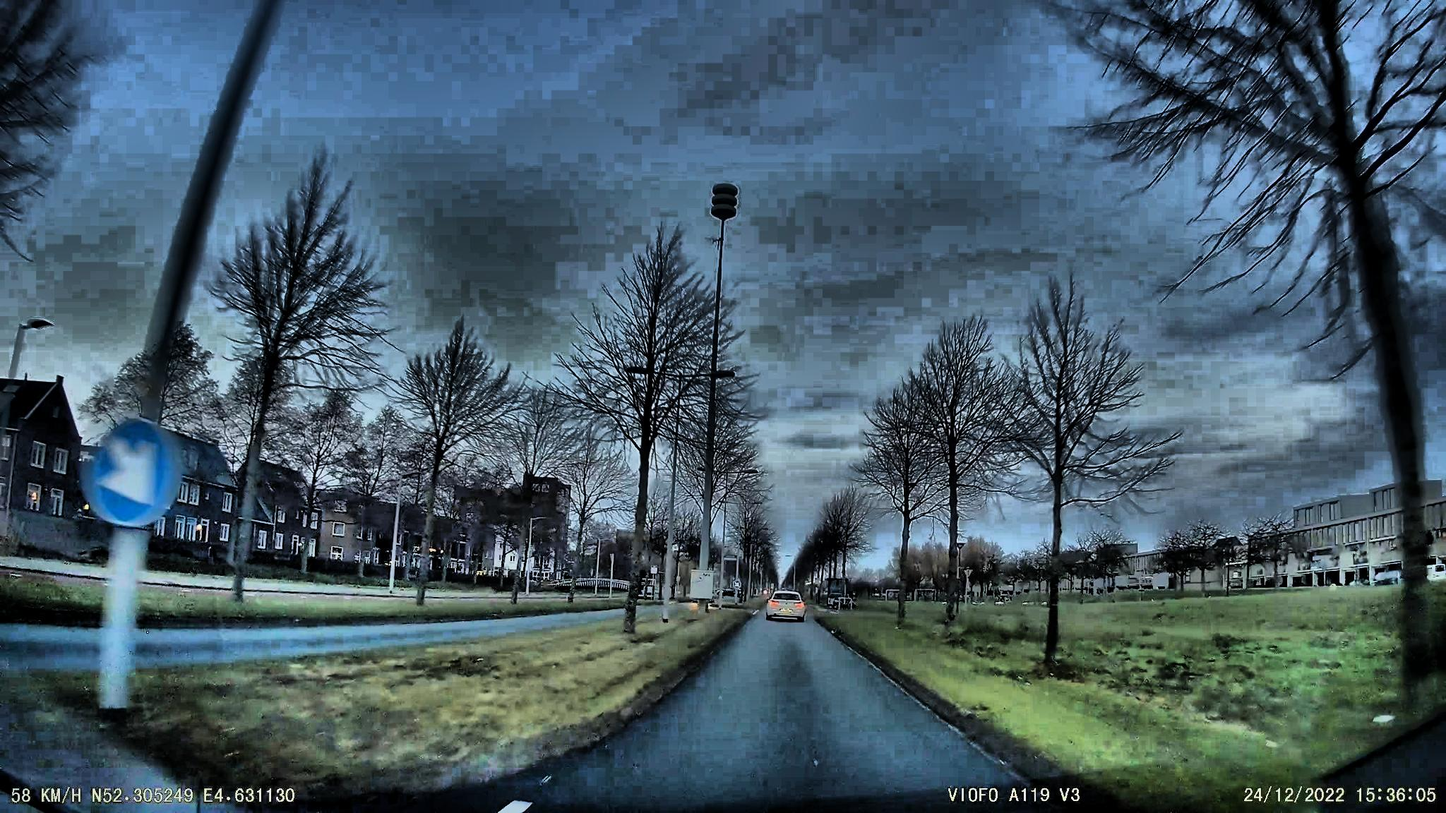Roads: (500, 618, 1124, 813)
